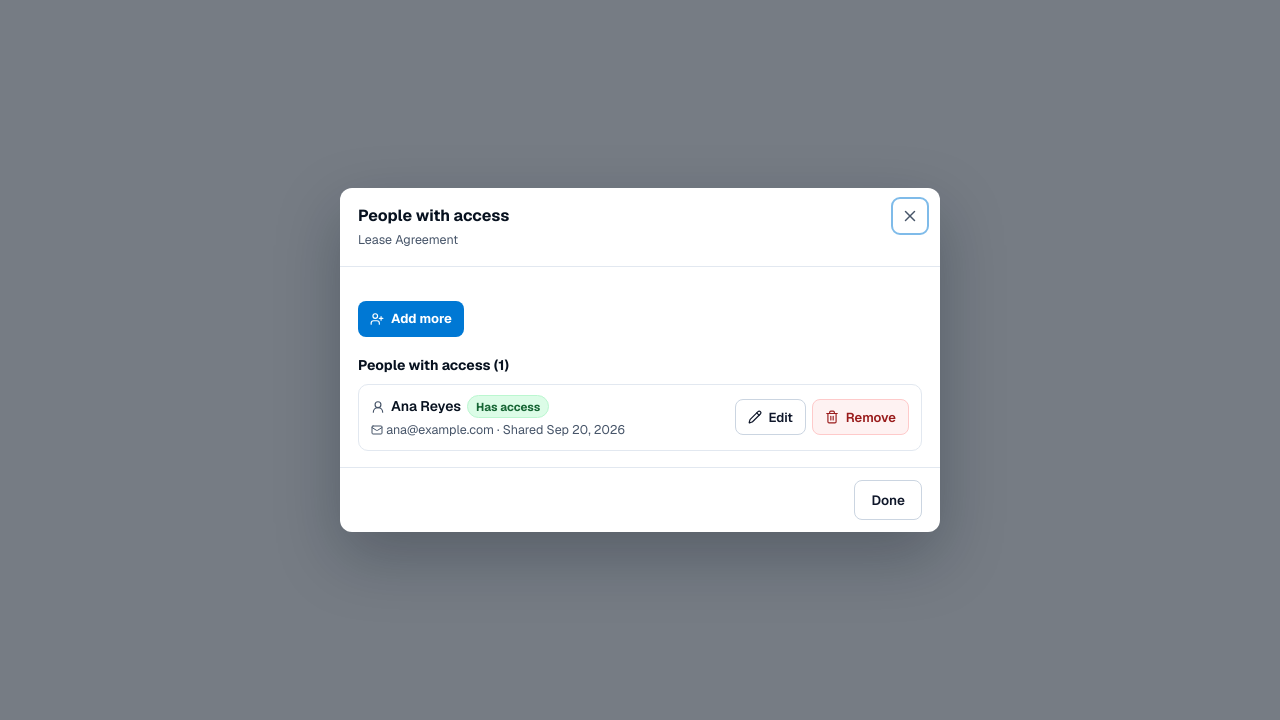
ShareDocumentDialog › changing the email starts a new pending share and says the new person must accept
The image size is (1280, 720).
Click the button with aria-label "Edit Ana Reyes" at (770, 417), box top-left (735, 399), bottom-right (806, 435)
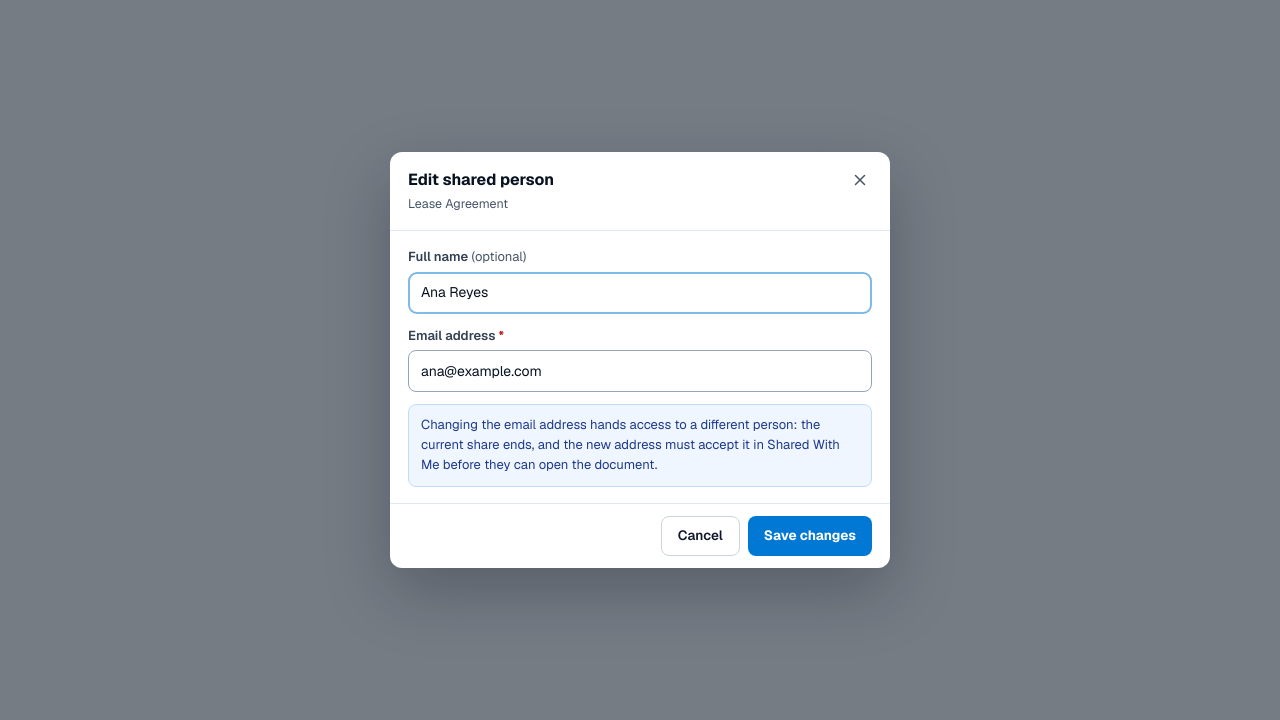
Replace the text in the field labelled "Email address *" with "ana.new@example.com" at (640, 371), box top-left (408, 350), bottom-right (872, 392)
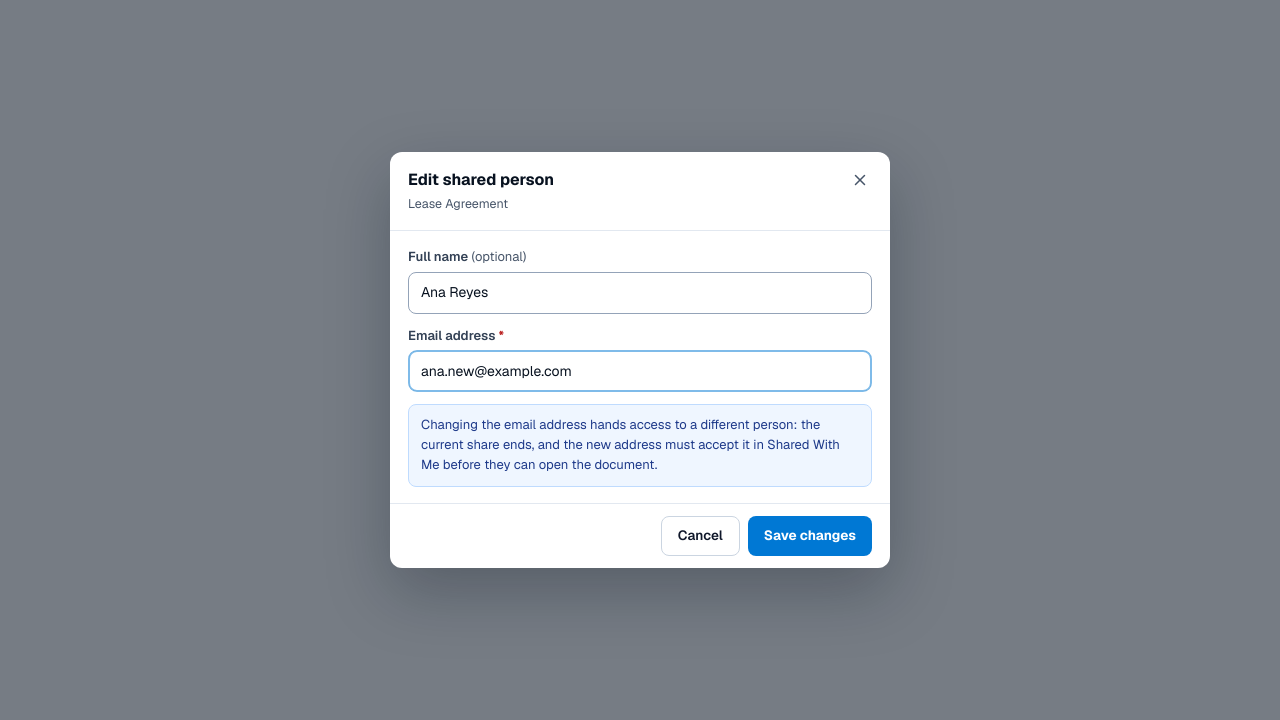
Click the button "Save changes" at (810, 536), box top-left (748, 516), bottom-right (872, 556)
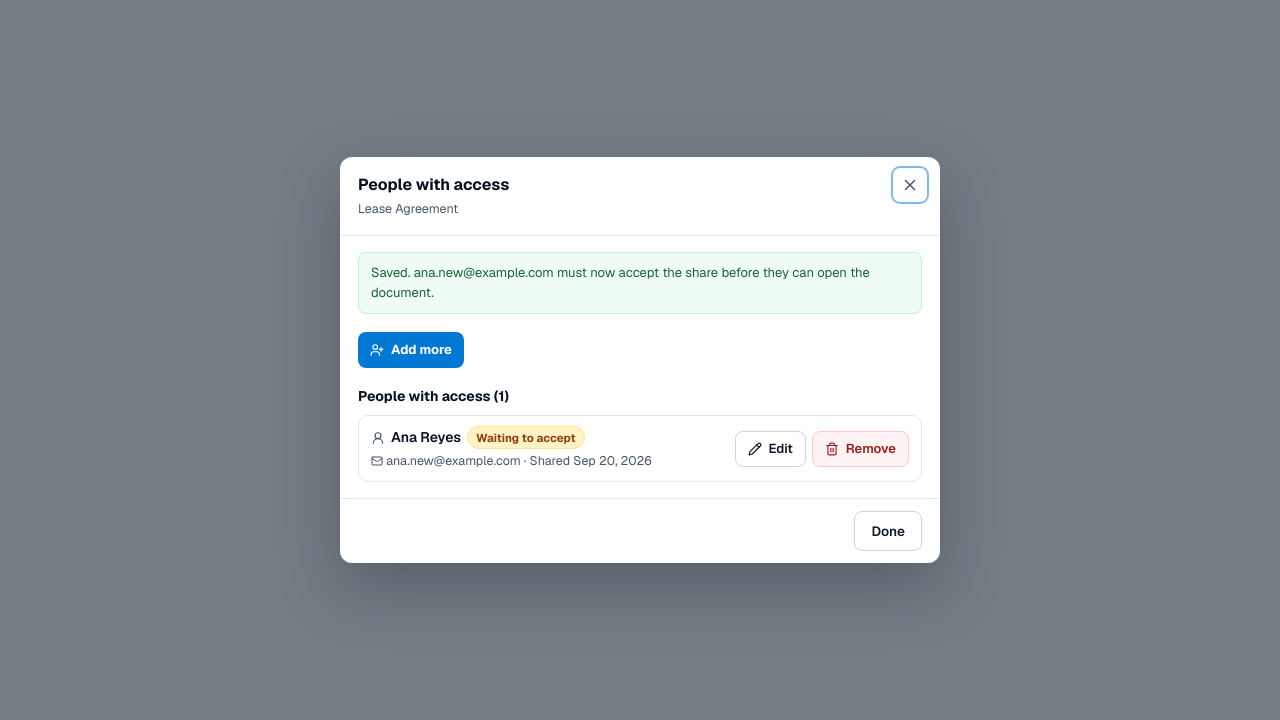
Expected: the text "ana.new@example.com must now accept the share" is shown, top-left (371, 264), bottom-right (870, 301)
Expected: the number of list items with test id "share-person" is 1, top-left (358, 415), bottom-right (922, 482)
Expected: the text "Waiting to accept" is shown, top-left (467, 426), bottom-right (585, 449)
